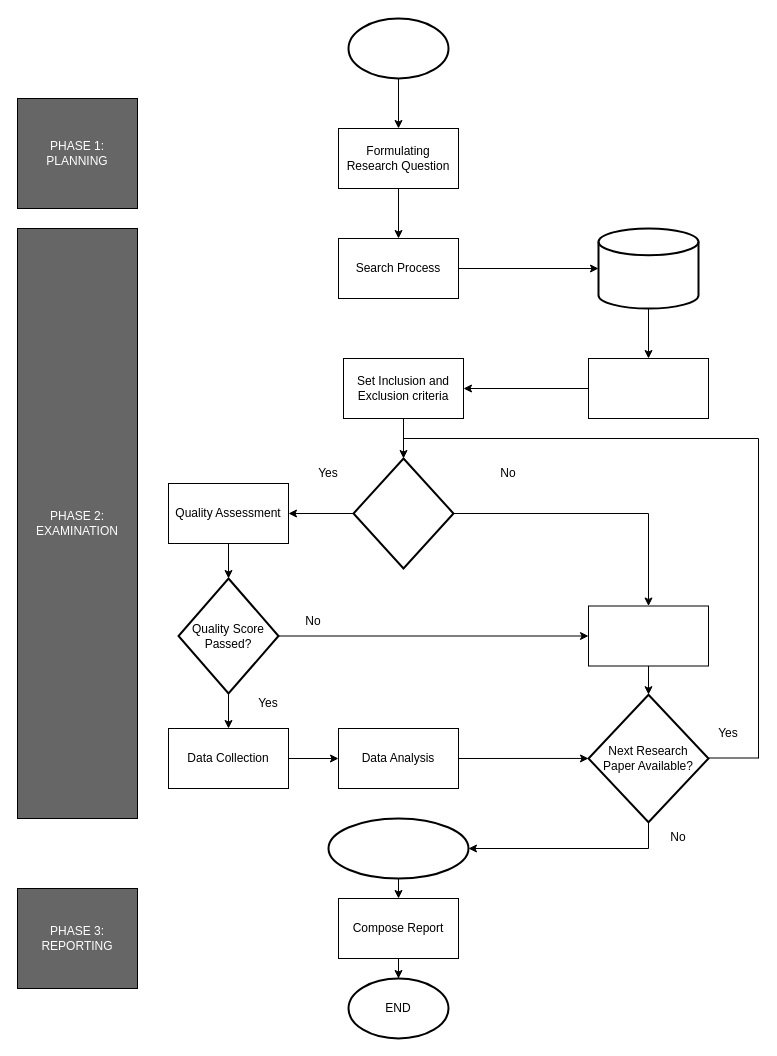
This 777x1056 diagram has some shape labels left out. Here are the shapes that lost their labels. From the top down, the centre of each, then its label:
At point 398,48: "START".
At point 648,268: "Research Paper Database".
At point 648,388: "Research Paper Retrieved".
At point 403,513: "Criteria Passed?".
At point 648,635: "Exclude Paper".
At point 398,848: "End of Conducting SLR".
